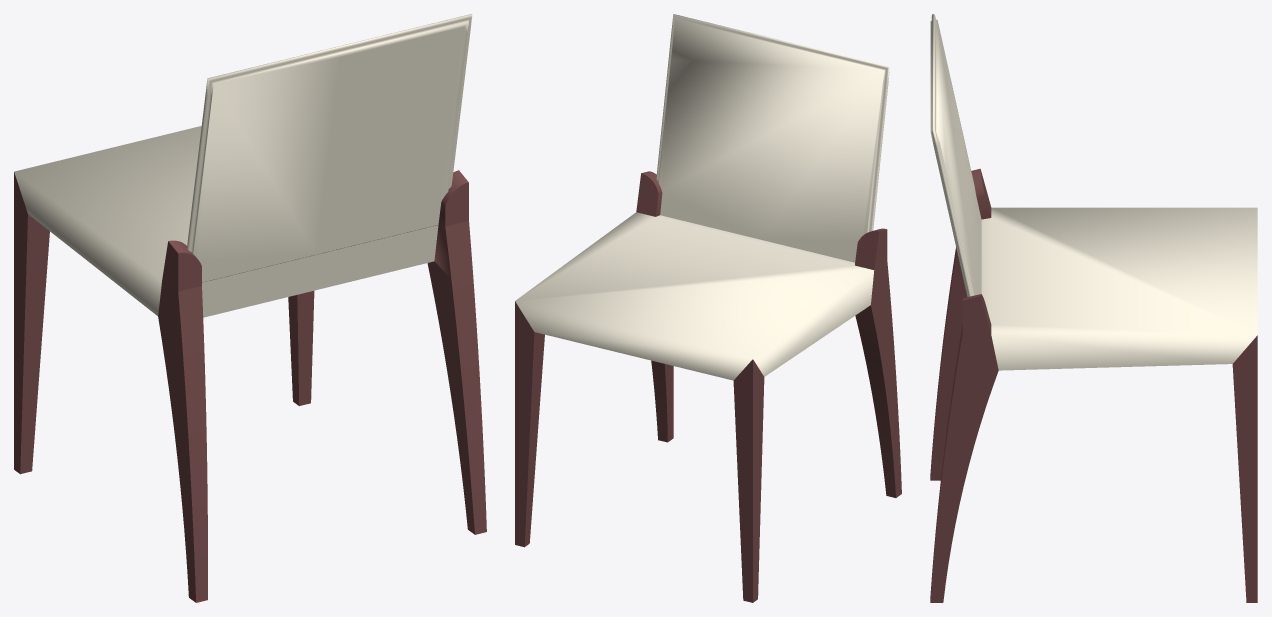
3 renders of one model, left to right at view 1: azimuth 30°, elevation 25°; view 2: azimuth 150°, elevation 25°; view 3: azimuth 270°, elevation 25°, orthographic. The views are drawn at different scales.
Parts seen in each view (by area): view 1: group_0_ID19, group_0_ID3, group_0_ID11; view 2: group_0_ID19, group_0_ID3; view 3: group_0_ID19, group_0_ID3.
Part boxes in pixels (box(x1,y1,x2,y2)): group_0_ID19: box(14, 14, 472, 315); group_0_ID3: box(14, 170, 486, 602); group_0_ID11: box(202, 225, 438, 317); group_0_ID19: box(515, 14, 889, 380); group_0_ID3: box(515, 171, 901, 602); group_0_ID19: box(930, 14, 1257, 370); group_0_ID3: box(930, 168, 1257, 602).
Bounding box in the file's own units: 0.4431 × 0.7569 × 0.4805.
